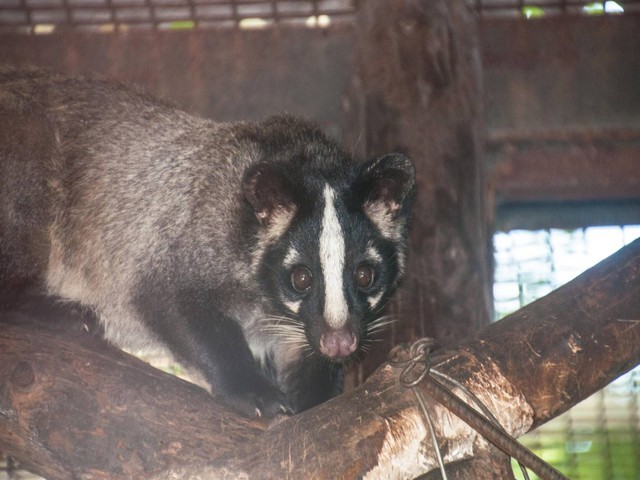civet: (4, 65, 421, 421)
